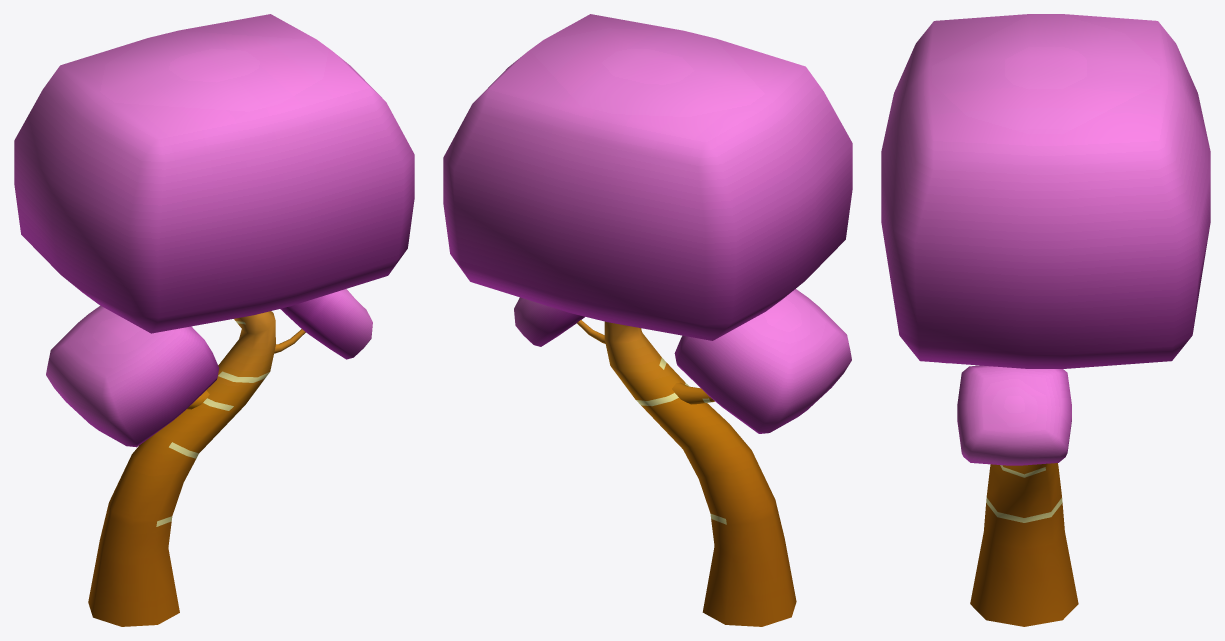
File: pink-1.fbx
3 views of the same model, side by side, from view 1: azimuth 30°, elevation 25°; view 2: azimuth 150°, elevation 25°; view 3: azimuth 270°, elevation 25° (orthographic). The views are drawn at different scales.
Parts seen in each view (by area): view 1: Cylinder.008; view 2: Cylinder.008; view 3: Cylinder.008.
Boxes of the visible parts, x1=… form: Cylinder.008: x1=14, y1=14, x2=414, y2=626; Cylinder.008: x1=443, y1=14, x2=852, y2=626; Cylinder.008: x1=881, y1=14, x2=1210, y2=626.
Bounding box in the file's own units: 108 × 170 × 86.55.
